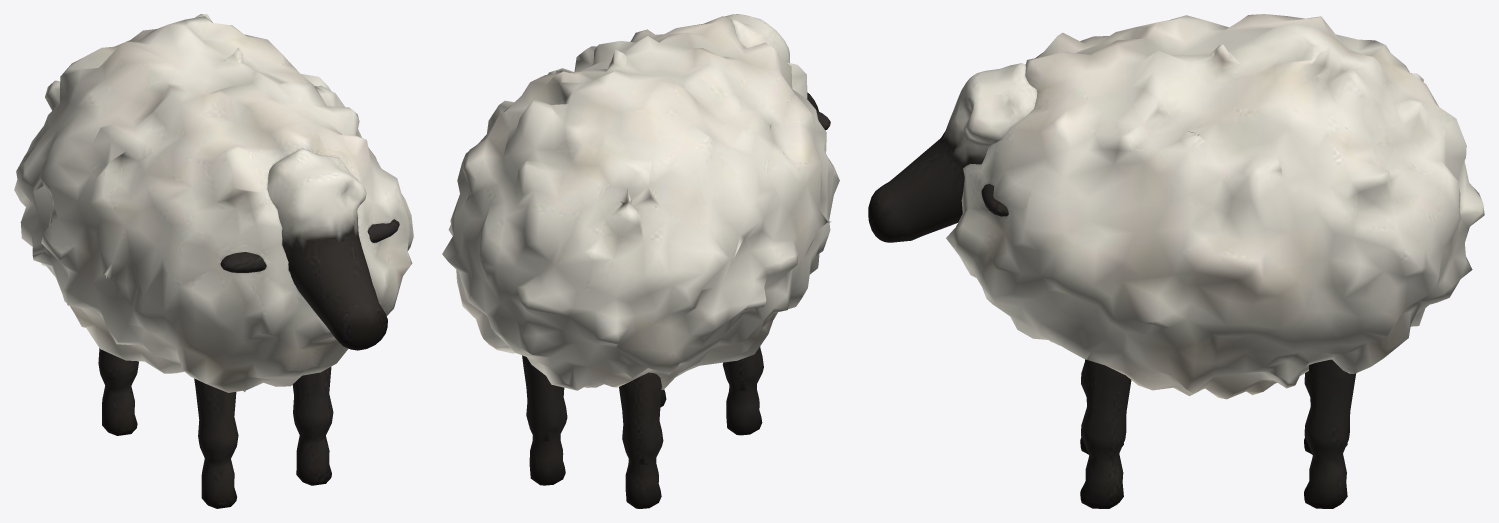
File: animal_sheep.glb
The picture shows the model from 3 angles, left to right: view 1: azimuth 30°, elevation 25°; view 2: azimuth 150°, elevation 25°; view 3: azimuth 270°, elevation 25°; orthographic projection. The views are drawn at different scales.
Parts seen in each view (by area): view 1: animal_sheep, head, leg0, leg1, leg2; view 2: animal_sheep, leg2, leg3, leg0, head; view 3: animal_sheep, head, leg3, leg1.
Part boxes in pixels (x1,y1,x2,y2): animal_sheep: (14, 14, 413, 392); head: (220, 149, 399, 350); leg0: (194, 378, 238, 508); leg1: (292, 367, 333, 485); leg2: (98, 348, 138, 435); animal_sheep: (442, 16, 839, 390); leg2: (619, 372, 663, 508); leg3: (522, 355, 567, 485); leg0: (722, 346, 763, 435); head: (724, 14, 830, 130); animal_sheep: (946, 14, 1484, 399); head: (868, 63, 1037, 242); leg3: (1304, 359, 1356, 508); leg1: (1080, 359, 1131, 508).
Bounding box in the file's own units: 0.3617 × 0.4513 × 0.5511.
Materials: 1 (1 with a texture image).
